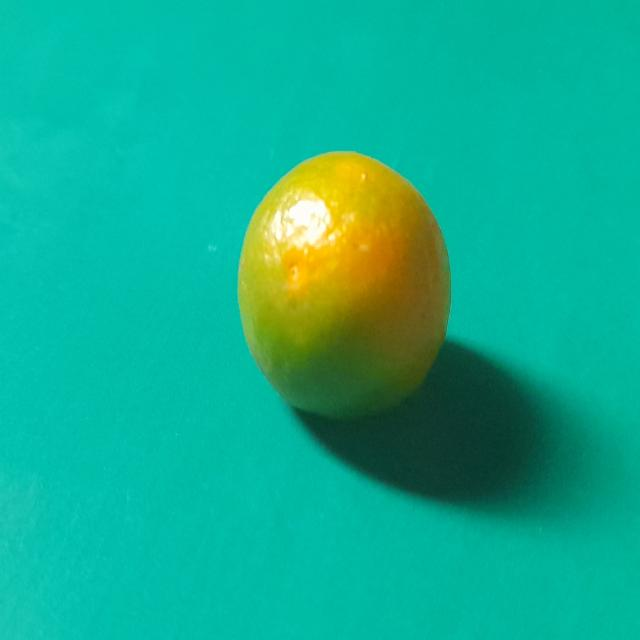greening: (236, 146, 454, 428)
